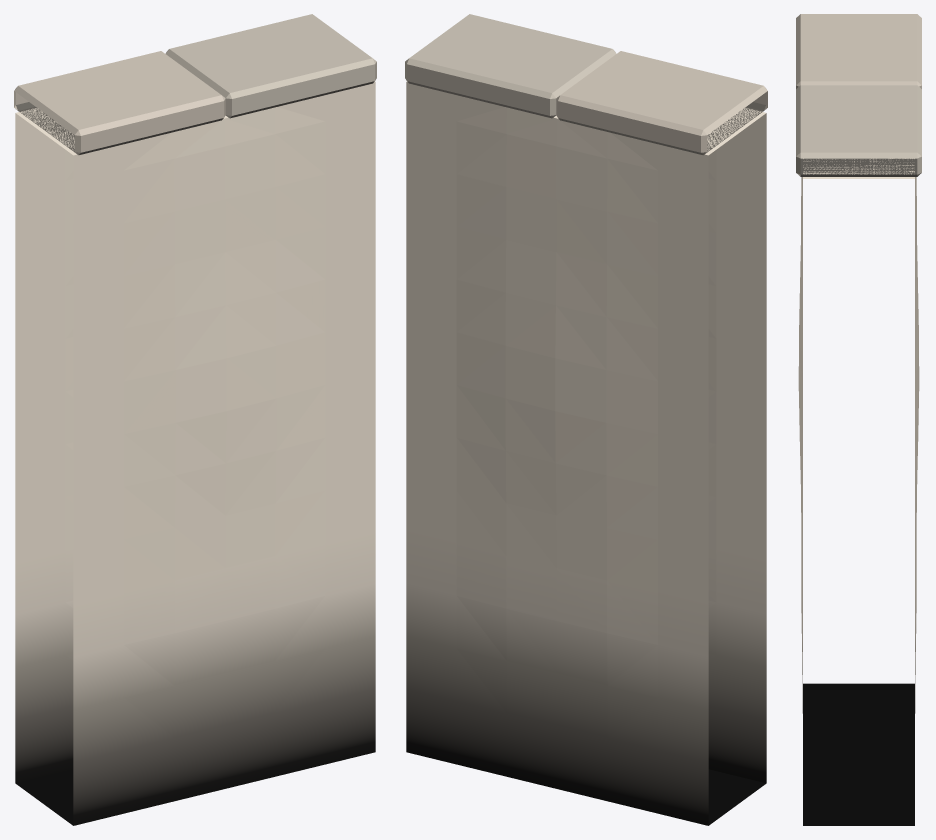
Rendered from SM_VKI_Wall_Stone_Plain_150A_Full.fbx.
The picture shows the model from 3 angles, left to right: view 1: azimuth 30°, elevation 25°; view 2: azimuth 150°, elevation 25°; view 3: azimuth 270°, elevation 25°; orthographic projection. The views are drawn at different scales.
Parts seen in each view (by area): view 1: SM_VKI_Wall_Stone_Plain_150A_Full.001; view 2: SM_VKI_Wall_Stone_Plain_150A_Full.001; view 3: SM_VKI_Wall_Stone_Plain_150A_Full.001.
Boxes of the visible parts, x1,y1,x2,y2 form: SM_VKI_Wall_Stone_Plain_150A_Full.001: (14,14,376,825); SM_VKI_Wall_Stone_Plain_150A_Full.001: (405,14,767,825); SM_VKI_Wall_Stone_Plain_150A_Full.001: (796,14,921,825).
Bounding box in the file's own units: 1.5 × 3.3 × 0.56.
